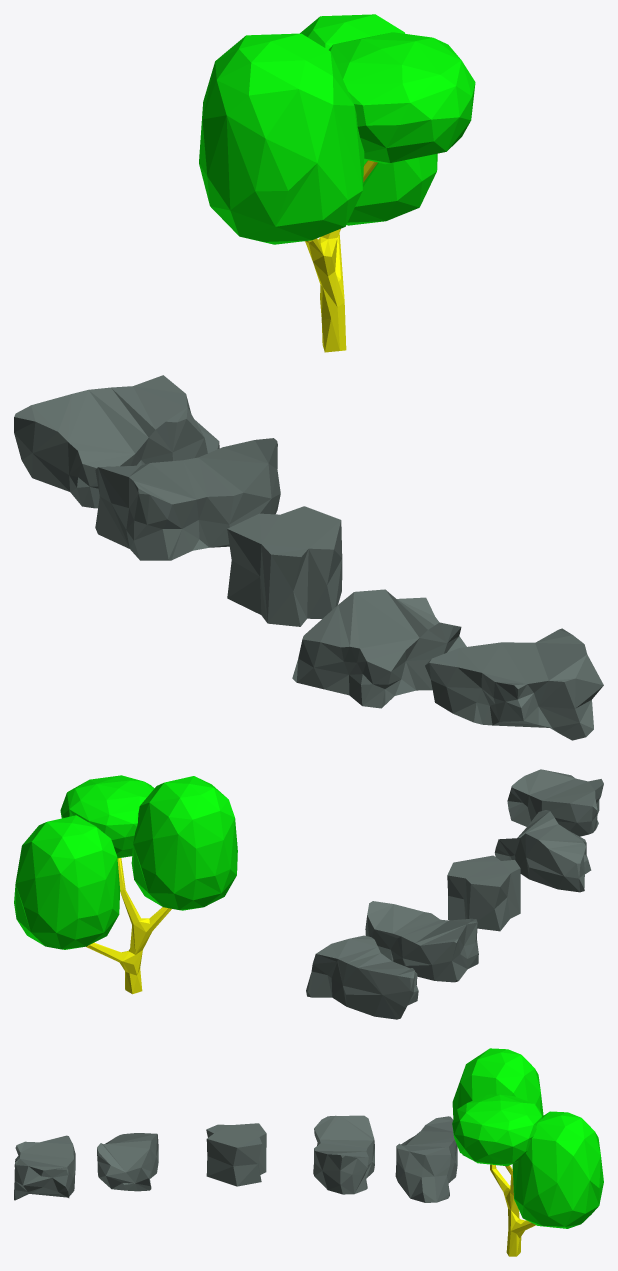
Rendered from AssetsCuisine.fbx.
3 views of the same model, one above another, from view 1: azimuth 30°, elevation 25°; view 2: azimuth 150°, elevation 25°; view 3: azimuth 270°, elevation 25° (orthographic). The views are drawn at different scales.
Visible parts, largest first — view 1: Arbre, Rocher02, Rocher01, Rocher05, Rocher04, Rocher03; view 2: Arbre, Rocher02, Rocher01, Rocher04, Rocher03, Rocher05; view 3: Arbre, Rocher02, Rocher01, Rocher03, Rocher05, Rocher04.
Part boxes in pixels (x1=…): Arbre: x1=199, y1=14, x2=475, y2=352; Rocher02: x1=95, y1=438, x2=280, y2=560; Rocher01: x1=14, y1=375, x2=219, y2=508; Rocher05: x1=425, y1=628, x2=603, y2=740; Rocher04: x1=292, y1=589, x2=466, y2=708; Rocher03: x1=227, y1=506, x2=342, y2=626; Arbre: x1=14, y1=775, x2=237, y2=994; Rocher02: x1=365, y1=901, x2=478, y2=982; Rocher01: x1=306, y1=935, x2=418, y2=1019; Rocher04: x1=494, y1=810, x2=591, y2=892; Rocher03: x1=447, y1=855, x2=520, y2=931; Rocher05: x1=507, y1=769, x2=603, y2=836; Arbre: x1=452, y1=1048, x2=603, y2=1256; Rocher02: x1=313, y1=1115, x2=374, y2=1194; Rocher01: x1=395, y1=1116, x2=457, y2=1202; Rocher03: x1=206, y1=1123, x2=266, y2=1186; Rocher05: x1=14, y1=1135, x2=75, y2=1200; Rocher04: x1=97, y1=1133, x2=158, y2=1191.
Size of the model in its own units: 1508 by 955 by 2759.
